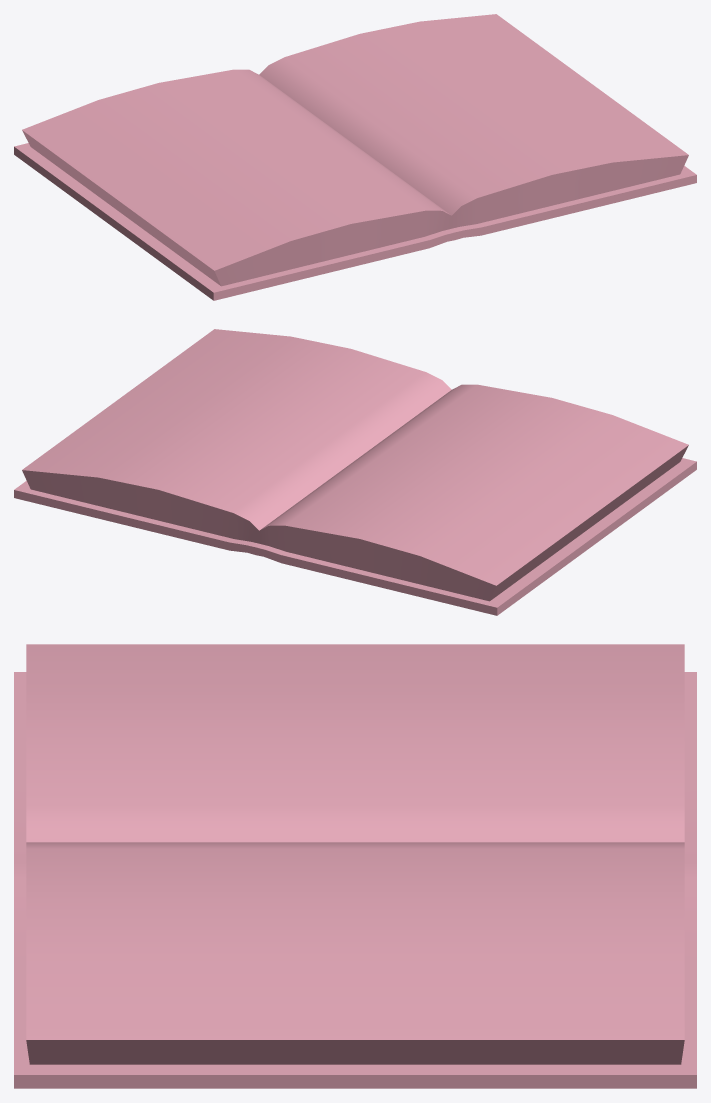
Rendered from Book_Open.fbx.
The picture shows the model from 3 angles, top to bottom: view 1: azimuth 30°, elevation 25°; view 2: azimuth 150°, elevation 25°; view 3: azimuth 270°, elevation 25°; orthographic projection. The views are drawn at different scales.
Visible parts, largest first — view 1: Book_Open; view 2: Book_Open; view 3: Book_Open.
Part boxes in pixels (bbox=[...]): Book_Open: bbox=[14, 14, 696, 300]; Book_Open: bbox=[14, 329, 696, 615]; Book_Open: bbox=[14, 644, 696, 1088].
Size of the model in its own units: 57.06 by 4.51 by 40.87.
